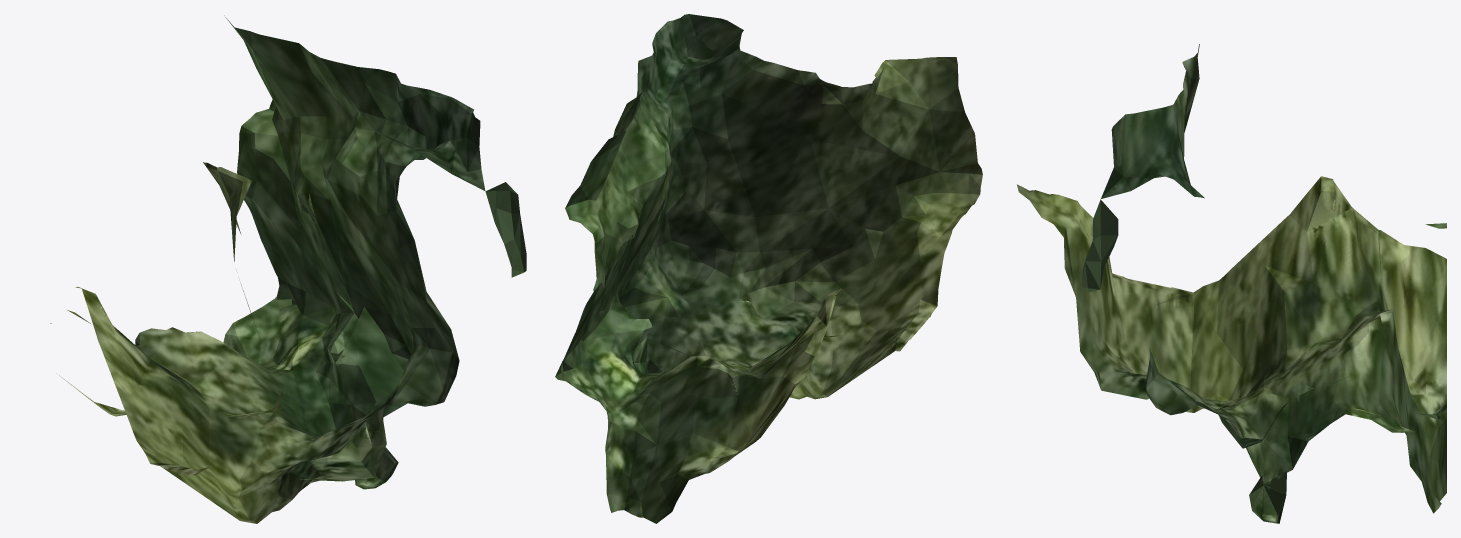
The picture shows the model from 3 angles, left to right: view 1: azimuth 30°, elevation 25°; view 2: azimuth 150°, elevation 25°; view 3: azimuth 270°, elevation 25°; orthographic projection. The views are drawn at different scales.
Size of the model in its own units: 2.25 by 2.95 by 2.84.
Materials: 4 (4 with a texture image).
